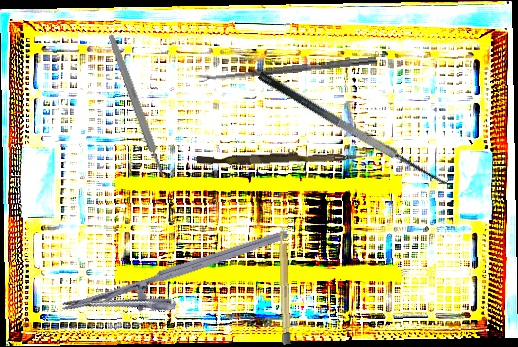Needle Holder: (60, 228, 299, 343)
Pusher: (196, 147, 363, 169)
Scalpel Handle: (106, 33, 167, 178), (278, 226, 292, 345)
Spatula Surgical: (256, 55, 456, 195)
Surgical Spoon: (198, 55, 377, 83)
